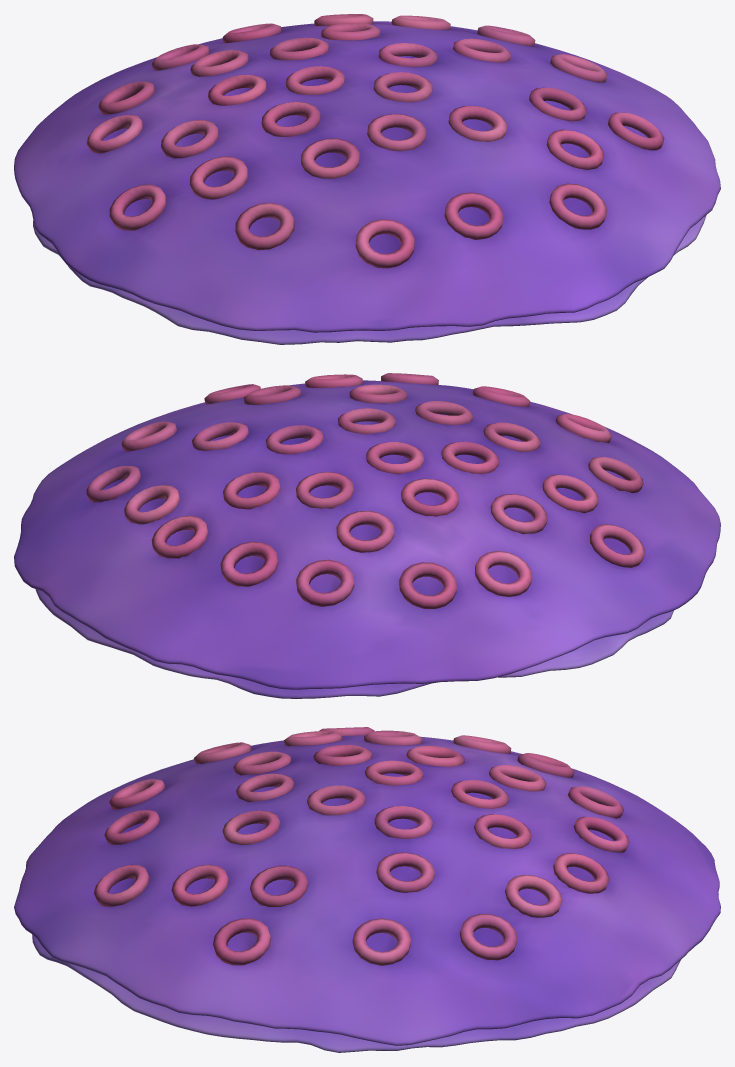
The model's file is nuclear-envelope-fragment.glb.
The picture shows the model from 3 angles, top to bottom: view 1: azimuth 30°, elevation 25°; view 2: azimuth 150°, elevation 25°; view 3: azimuth 270°, elevation 25°; orthographic projection. The views are drawn at different scales.
Visible parts, largest first — view 1: nuclear-envelope-fragment-outer, nuclear-envelope-fragment-pores, nuclear-envelope-fragment-inner; view 2: nuclear-envelope-fragment-outer, nuclear-envelope-fragment-pores, nuclear-envelope-fragment-inner; view 3: nuclear-envelope-fragment-outer, nuclear-envelope-fragment-pores, nuclear-envelope-fragment-inner.
Part boxes in pixels (x1,y1,x2,y2): nuclear-envelope-fragment-outer: [14, 21, 720, 332]; nuclear-envelope-fragment-pores: [86, 14, 664, 268]; nuclear-envelope-fragment-inner: [33, 215, 706, 344]; nuclear-envelope-fragment-outer: [14, 380, 720, 689]; nuclear-envelope-fragment-pores: [86, 373, 644, 608]; nuclear-envelope-fragment-inner: [35, 589, 673, 698]; nuclear-envelope-fragment-outer: [14, 735, 720, 1045]; nuclear-envelope-fragment-pores: [94, 727, 629, 965]; nuclear-envelope-fragment-inner: [32, 934, 680, 1052].
Size of what is drawn, in the model's own units: 1.92 by 0.394 by 1.92.
